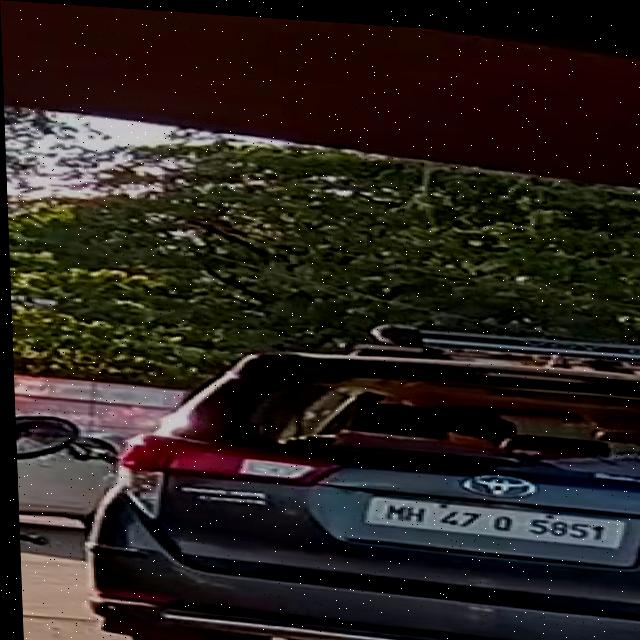plate: (355, 488, 624, 542)
